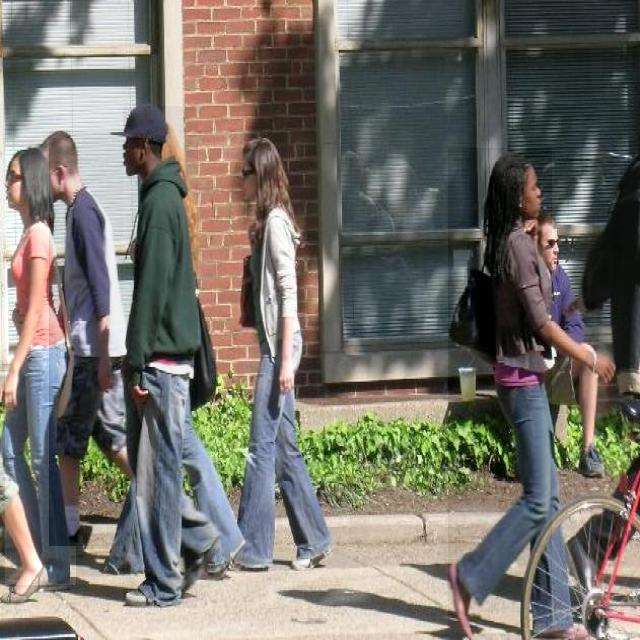with scooter: (448, 148, 552, 628), (232, 137, 336, 573), (123, 106, 198, 608), (5, 148, 76, 585), (49, 131, 123, 546), (538, 215, 592, 309)
